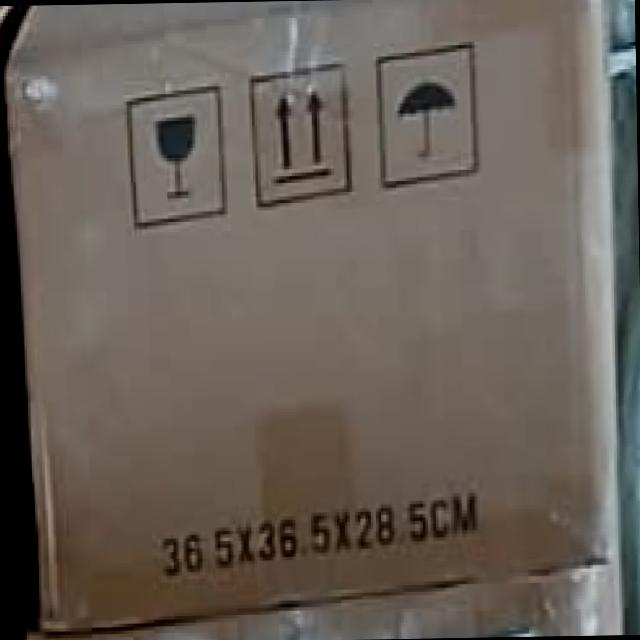carton_box: (2, 0, 621, 633)
fragile_label: (128, 85, 232, 234)
keep_dry_label: (374, 35, 492, 194)
this_side_up_label: (240, 62, 372, 217)
